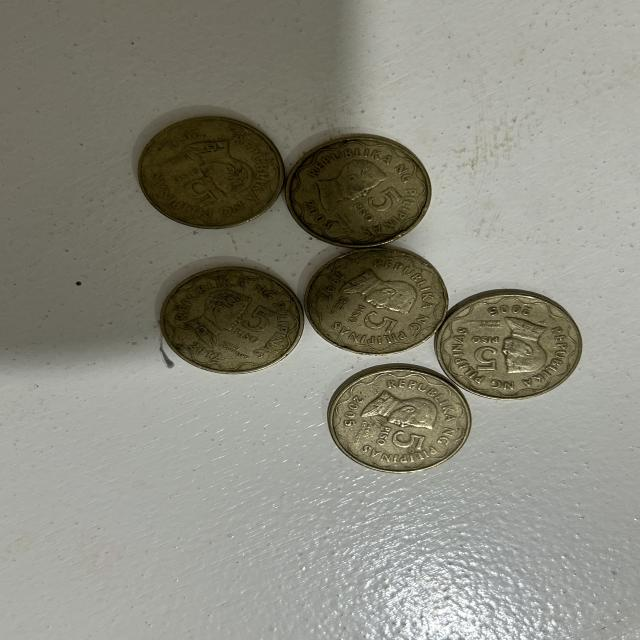5_Old_Front: (214, 302, 282, 349), (356, 186, 415, 225), (345, 293, 395, 339), (365, 425, 432, 459), (167, 169, 220, 208), (466, 333, 503, 368)
